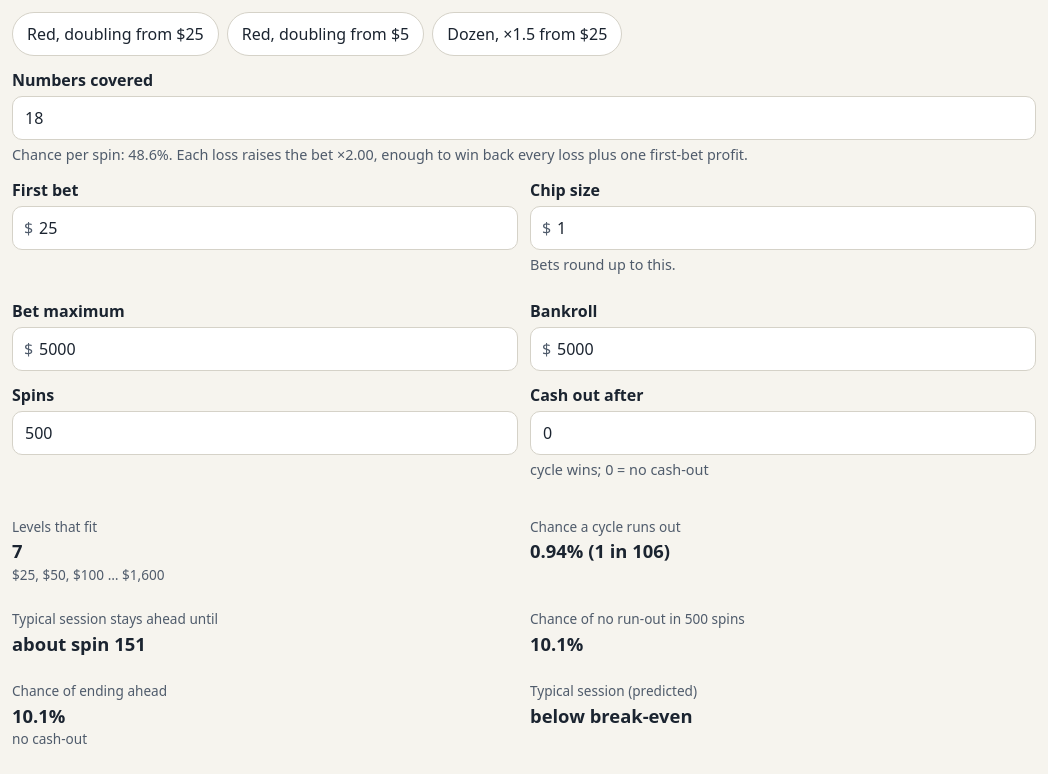
Test case: LadderCalculator › a cash-out target changes the chance of ending ahead and the typical session
The image size is (1048, 774).
Click the button "Red, doubling from $25": (115, 34) [12, 12, 219, 56]
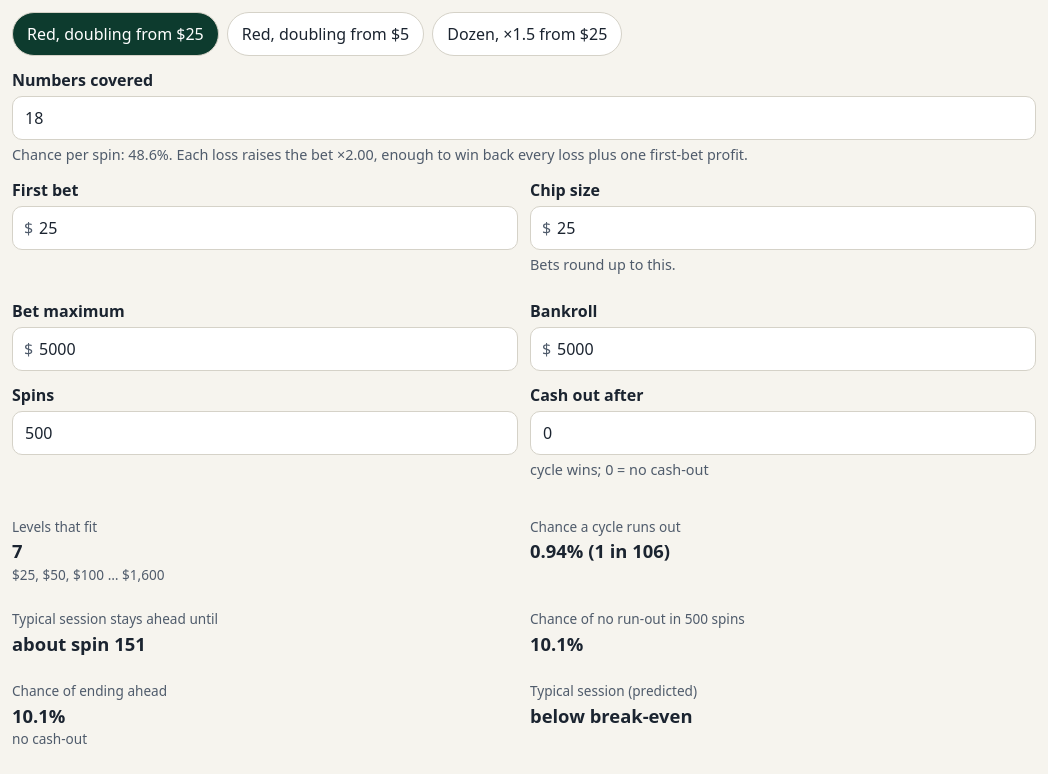
Replace the text in the field labelled "Cash out after" with "20": (783, 433) [530, 411, 1036, 455]
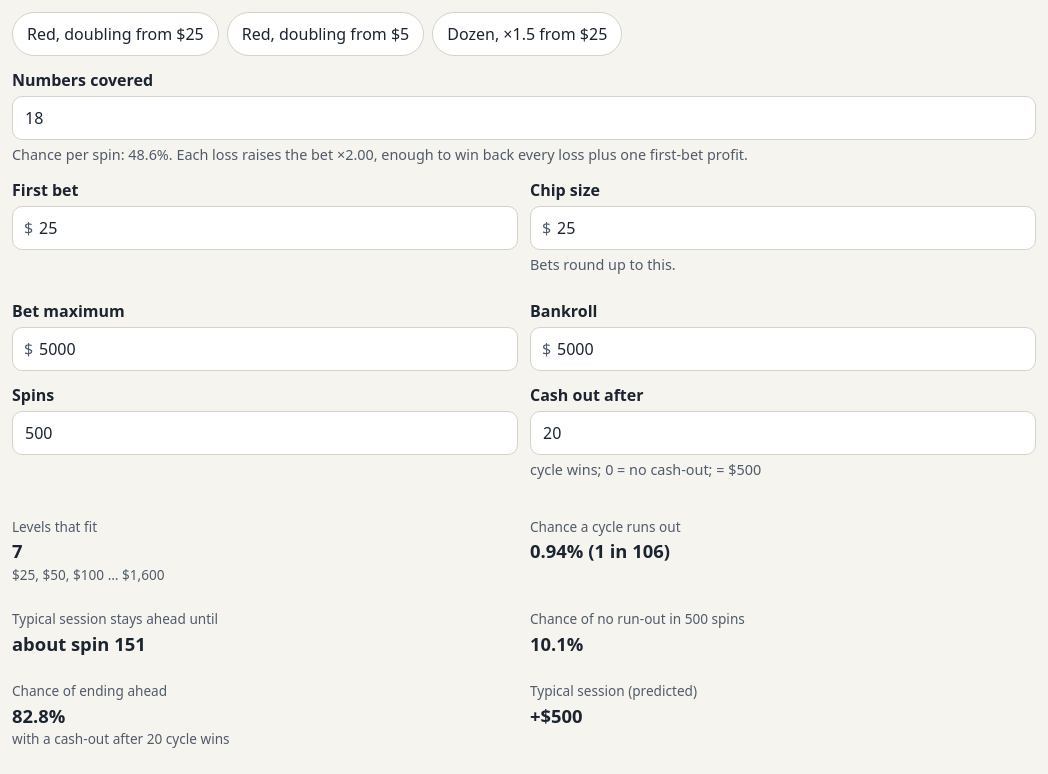
Check: the element with class "stat" shows "+$", box [530, 681, 697, 728]
Check: the text with id "calc-w-hint" reads "cycle wins; 0 = no cash-out; = $500", box [530, 460, 761, 479]
